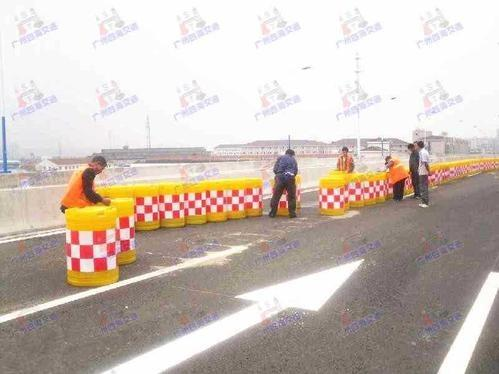cone_barrel: (63, 205, 118, 286), (111, 197, 136, 263), (157, 181, 184, 227), (134, 182, 159, 231), (270, 175, 297, 219), (318, 175, 345, 213), (184, 180, 206, 224), (205, 178, 226, 222), (225, 178, 244, 218), (243, 178, 263, 215), (348, 175, 363, 207), (371, 173, 386, 201), (361, 173, 373, 203)
